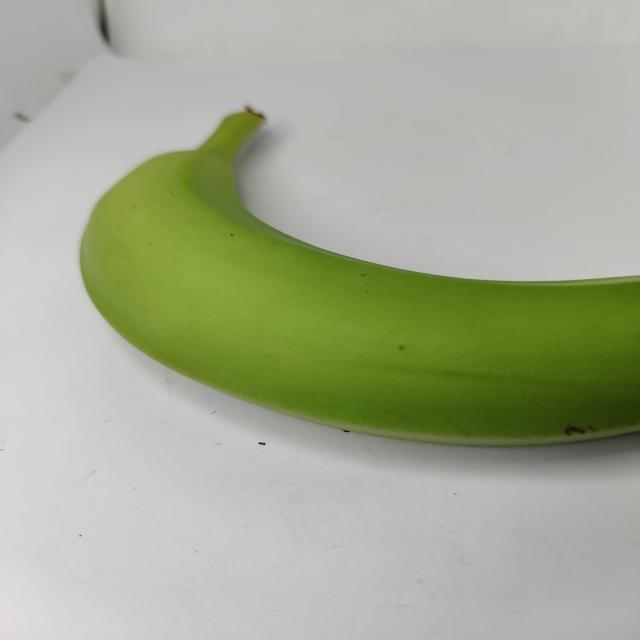raw: (40, 99, 640, 449)
